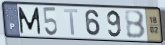5: (42, 7, 59, 37)
6: (84, 9, 102, 38)
9: (106, 10, 122, 38)
B: (123, 10, 147, 40)
M: (17, 6, 42, 35)
T: (62, 8, 79, 37)
